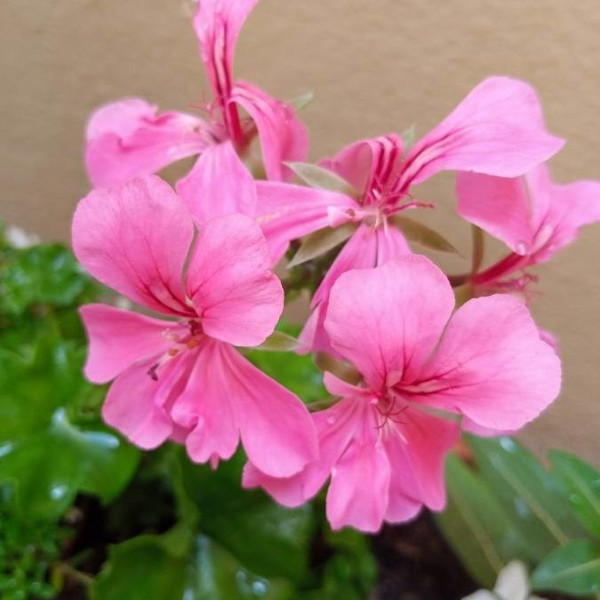obstacle: (50, 7, 572, 548)
